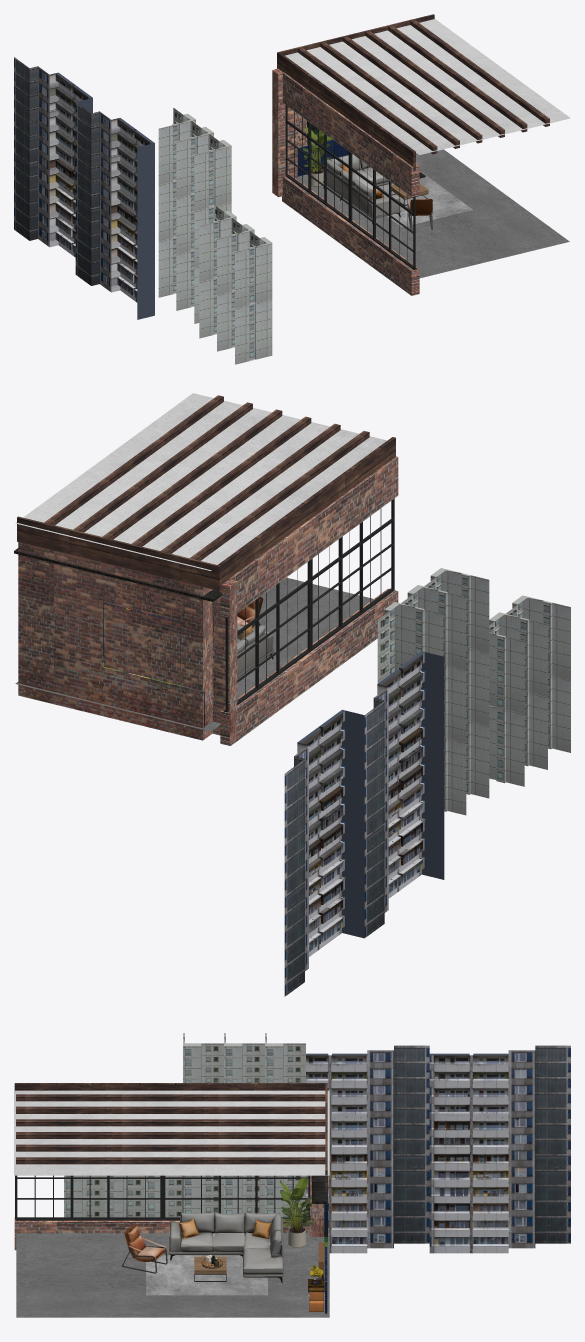
Rendered from room.glb.
The picture shows the model from 3 angles, top to bottom: view 1: azimuth 30°, elevation 25°; view 2: azimuth 150°, elevation 25°; view 3: azimuth 270°, elevation 25°; orthographic projection. The views are drawn at different scales.
Parts seen in each view (by area): view 1: Plane.006, Plane.001, Plane, Plane.004, Plane.005, object 19, object 16, object 20, Plane.002, object 17, object 15, node_0_Material.005_0 (+4 smaller); view 2: Plane.006, object 15, Plane.001, Plane.004, Plane.005, object 19, object 17, object 16, object 20, Plane.002, Plane, node_0_Material.005_0 (+1 smaller); view 3: Plane.006, Plane, Plane.001, object 19, Plane.004, node_0_Material.005_0, Plane.005, Plane.003, Plane.002, object 17, object 20, node_0.004_Material.014_0 (+4 smaller).
Part boxes in pixels (box(x1,y1,x2,y2)): Plane.006: box(14, 57, 154, 319); Plane.001: box(285, 19, 570, 155); Plane: box(297, 149, 569, 278); Plane.004: box(158, 108, 231, 323); Plane.005: box(199, 206, 272, 364); object 19: box(297, 20, 549, 154); object 16: box(282, 72, 419, 196); object 20: box(282, 175, 419, 295); Plane.002: box(285, 105, 417, 269); object 17: box(277, 14, 434, 170); object 15: box(272, 68, 331, 197); node_0_Material.005_0: box(323, 154, 401, 224); Plane.006: box(284, 651, 444, 996); object 15: box(18, 542, 237, 744); Plane.001: box(15, 393, 387, 570); Plane.004: box(377, 568, 489, 815); Plane.005: box(489, 595, 570, 786); object 19: box(44, 395, 369, 560); object 17: box(17, 437, 395, 590); object 16: box(220, 456, 398, 617); object 20: box(220, 588, 398, 745); Plane.002: box(223, 498, 394, 712); Plane: box(15, 577, 373, 731); node_0_Material.005_0: box(237, 625, 273, 678); Plane.006: box(306, 1045, 570, 1253); Plane: box(16, 1233, 329, 1317); Plane.001: box(14, 1090, 329, 1175); object 19: box(16, 1094, 325, 1164); Plane.004: box(183, 1033, 305, 1217); node_0_Material.005_0: box(169, 1212, 283, 1282); Plane.005: box(64, 1175, 182, 1217); Plane.003: box(146, 1255, 267, 1295); Plane.002: box(15, 1175, 309, 1220); object 17: box(14, 1083, 327, 1191); object 20: box(14, 1217, 309, 1250); node_0.004_Material.014_0: box(280, 1177, 313, 1248).
Size of the model in its own units: 20.37 by 13.36 by 27.17.
24 materials, 20 textured.
